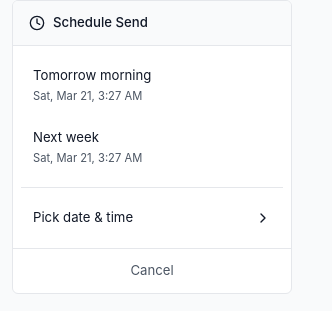
Test: DateTimePicker › shows custom date/time section
Should have a way to pick custom date
Click the button "Pick date & time" at (83, 217), box [21,196,283,240]
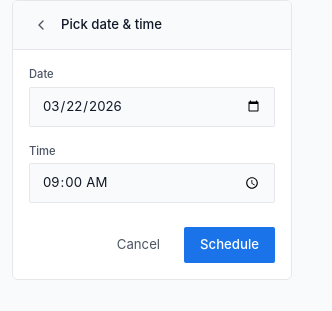
expect the time field showing "09:00" is shown: met, box [29,163,275,203]
